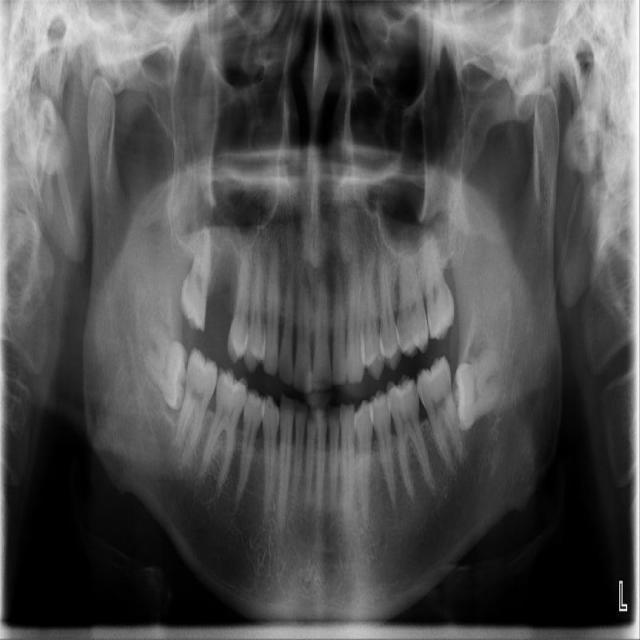73: (588, 574, 608, 587)
BioHorizons Implant: (414, 227, 459, 342)
Biomet 3i Implant: (454, 349, 505, 430)
Blue Sky Bio Implant: (412, 354, 465, 467)
Caries: (177, 223, 215, 332)
Implant: (171, 346, 222, 463)
Keystone Dental Implant: (142, 321, 189, 411)
